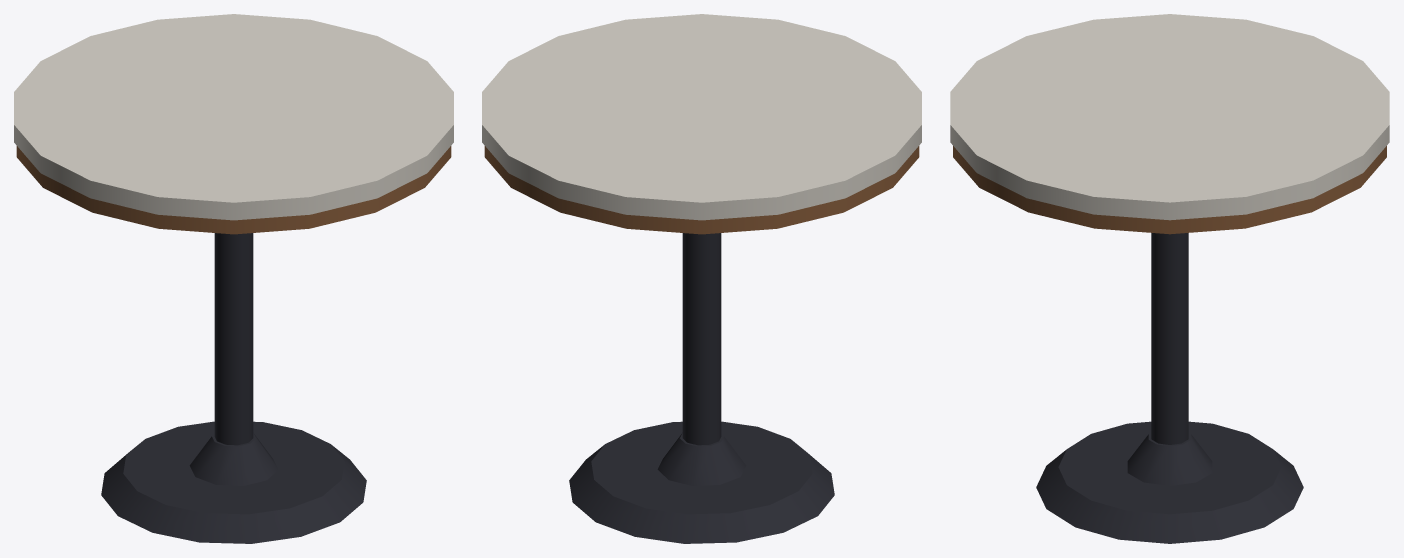
File: cafe_table.glb
The picture shows the model from 3 angles, left to right: view 1: azimuth 30°, elevation 25°; view 2: azimuth 150°, elevation 25°; view 3: azimuth 270°, elevation 25°; orthographic projection.
Parts seen in each view (by area): view 1: body; view 2: body; view 3: body.
Boxes of the visible parts, bbox=[...] form: body: bbox=[14, 14, 453, 543]; body: bbox=[482, 14, 921, 543]; body: bbox=[950, 14, 1389, 543].
Size of the model in its own units: 0.8 by 0.75 by 0.7878.
